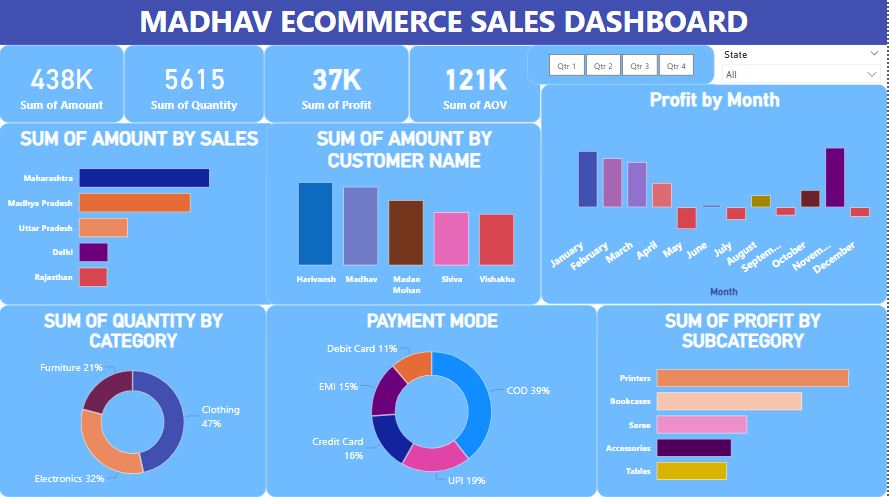

This screenshot's page, from the dashboard's own definition file:
{"tool":"powerbi","page":{"name":"Page 1","canvas":[1280,720],"ordinal":0},"visuals":[{"type":"textbox","box":[0,0,1280.2,69.1],"z":0},{"type":"columnChart","title":"Profit by Month","fields":{"Y":["Details (4).Profit"],"Category":["Orders (3).Order Date.Variation.Date Hierarchy.Month"]},"box":[781.1,126,498.9,317.5],"z":1},{"type":"barChart","title":"SUM OF PROFIT BY SUBCATEGORY","fields":{"Y":["Details (4).Profit"],"Category":["Details (4).Sub-Category"]},"box":[861.7,443.5,418.3,277.2],"z":2},{"type":"donutChart","title":"SUM OF QUANTITY BY CATEGORY","fields":{"Category":["Details (4).Category"],"Y":["Details (4).Quantity"]},"box":[0,443.5,384.7,277.2],"z":3},{"type":"donutChart","title":"PAYMENT  MODE","fields":{"Y":["Details (4).Quantity"],"Category":["Details (4).PaymentMode"]},"box":[384.7,443.5,477.1,277.2],"z":4},{"type":"card","fields":{"Values":["Details (4).Amount"]},"box":[0,69.1,180,112.3],"z":5},{"type":"card","fields":{"Values":["Details (4).Quantity"]},"box":[180,69.1,201.6,112.3],"z":6},{"type":"card","fields":{"Values":["Details (4).AOV"]},"box":[590.4,69.1,190.1,112.3],"z":7},{"type":"card","fields":{"Values":["Details (4).Profit"]},"box":[381.6,69.1,208.8,112.3],"z":8},{"type":"clusteredBarChart","title":"SUM OF AMOUNT BY SALES","fields":{"Category":["Orders (3).State"],"Y":["Details (4).Amount"]},"box":[0,181.4,401.8,262.1],"z":9},{"type":"clusteredColumnChart","title":"SUM OF AMOUNT BY CUSTOMER NAME","fields":{"Category":["Orders (3).CustomerName"],"Y":["Details (4).Amount"]},"box":[384.5,181.4,396,262.1],"z":10},{"type":"slicer","fields":{"Values":["Orders (3).Order Date.Variation.Date Hierarchy.Quarter"]},"box":[760.9,68.9,270.4,57.1],"z":11},{"type":"slicer","fields":{"Values":["Orders (3).State"]},"box":[1031.4,68.9,248.6,57.1],"z":12}]}

Visuals, with their boxes in screenshot pixels (x1, y1, x2, y2), scaled from the page's 1280x720 canvas onto the 891x497 screenshot:
textbox: [left=0, top=0, right=890, bottom=48]
"Profit by Month" columnChart: [left=544, top=87, right=890, bottom=306]
"SUM OF PROFIT BY SUBCATEGORY" barChart: [left=600, top=306, right=890, bottom=496]
"SUM OF QUANTITY BY CATEGORY" donutChart: [left=0, top=306, right=268, bottom=496]
"PAYMENT  MODE" donutChart: [left=268, top=306, right=600, bottom=496]
card - Details (4).Amount: [left=0, top=48, right=125, bottom=125]
card - Details (4).Quantity: [left=125, top=48, right=266, bottom=125]
card - Details (4).AOV: [left=411, top=48, right=543, bottom=125]
card - Details (4).Profit: [left=266, top=48, right=411, bottom=125]
"SUM OF AMOUNT BY SALES" clusteredBarChart: [left=0, top=125, right=280, bottom=306]
"SUM OF AMOUNT BY CUSTOMER NAME" clusteredColumnChart: [left=268, top=125, right=543, bottom=306]
slicer - Orders (3).Order Date.Variation.Date Hierarchy.Quarter: [left=530, top=48, right=718, bottom=87]
slicer - Orders (3).State: [left=718, top=48, right=890, bottom=87]
